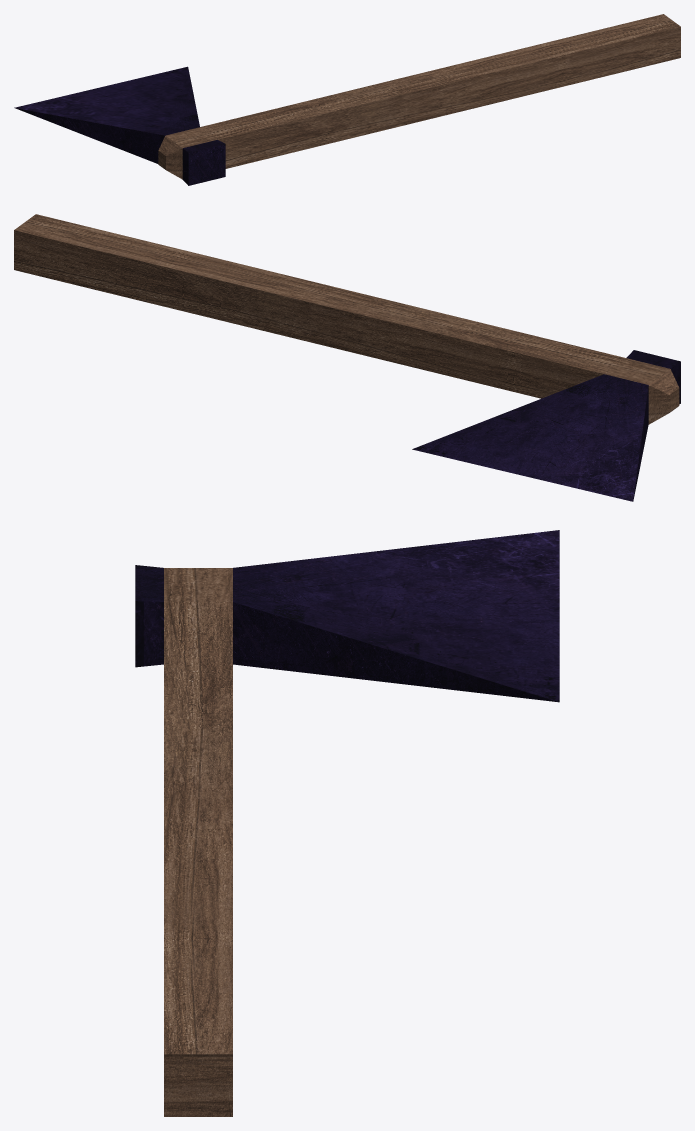
File: axe.glb
3 views of the same model, one above another, from view 1: azimuth 30°, elevation 25°; view 2: azimuth 150°, elevation 25°; view 3: azimuth 270°, elevation 25° (orthographic). The views are drawn at different scales.
Visible parts, largest first — view 1: Cube.001; view 2: Cube.001; view 3: Cube.001.
Part boxes in pixels (<box>): Cube.001: <box>14,14,680,185</box>; Cube.001: <box>14,214,680,501</box>; Cube.001: <box>135,530,559,1116</box>.
Size of the model in its own units: 5.7 by 0.3179 by 1.84.
Materials: 1 (1 with a texture image).
